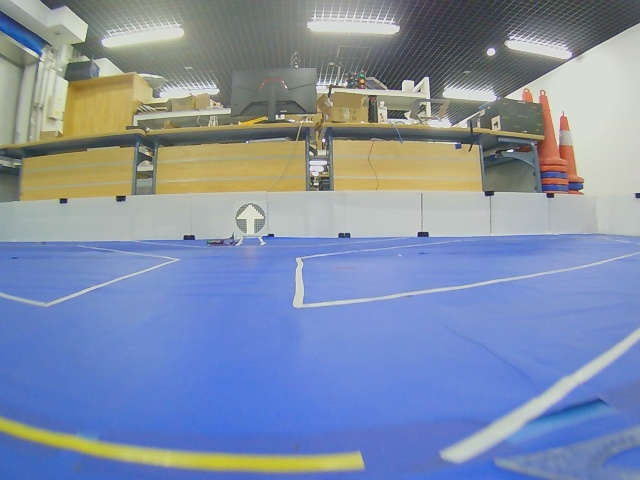straight_yellow: (236, 203, 266, 236)
